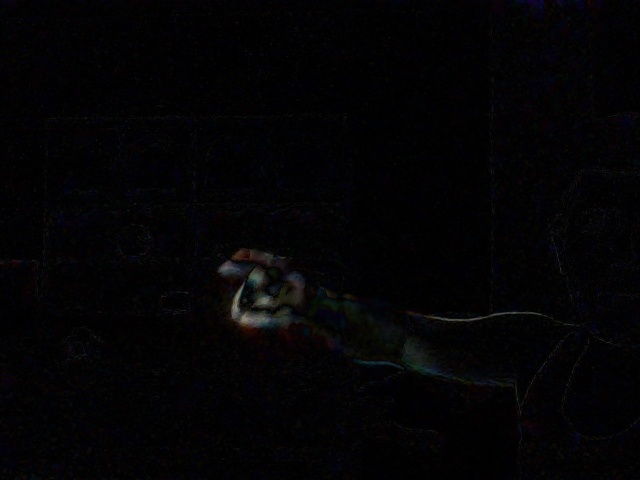hand_po: (209, 232, 307, 334)
